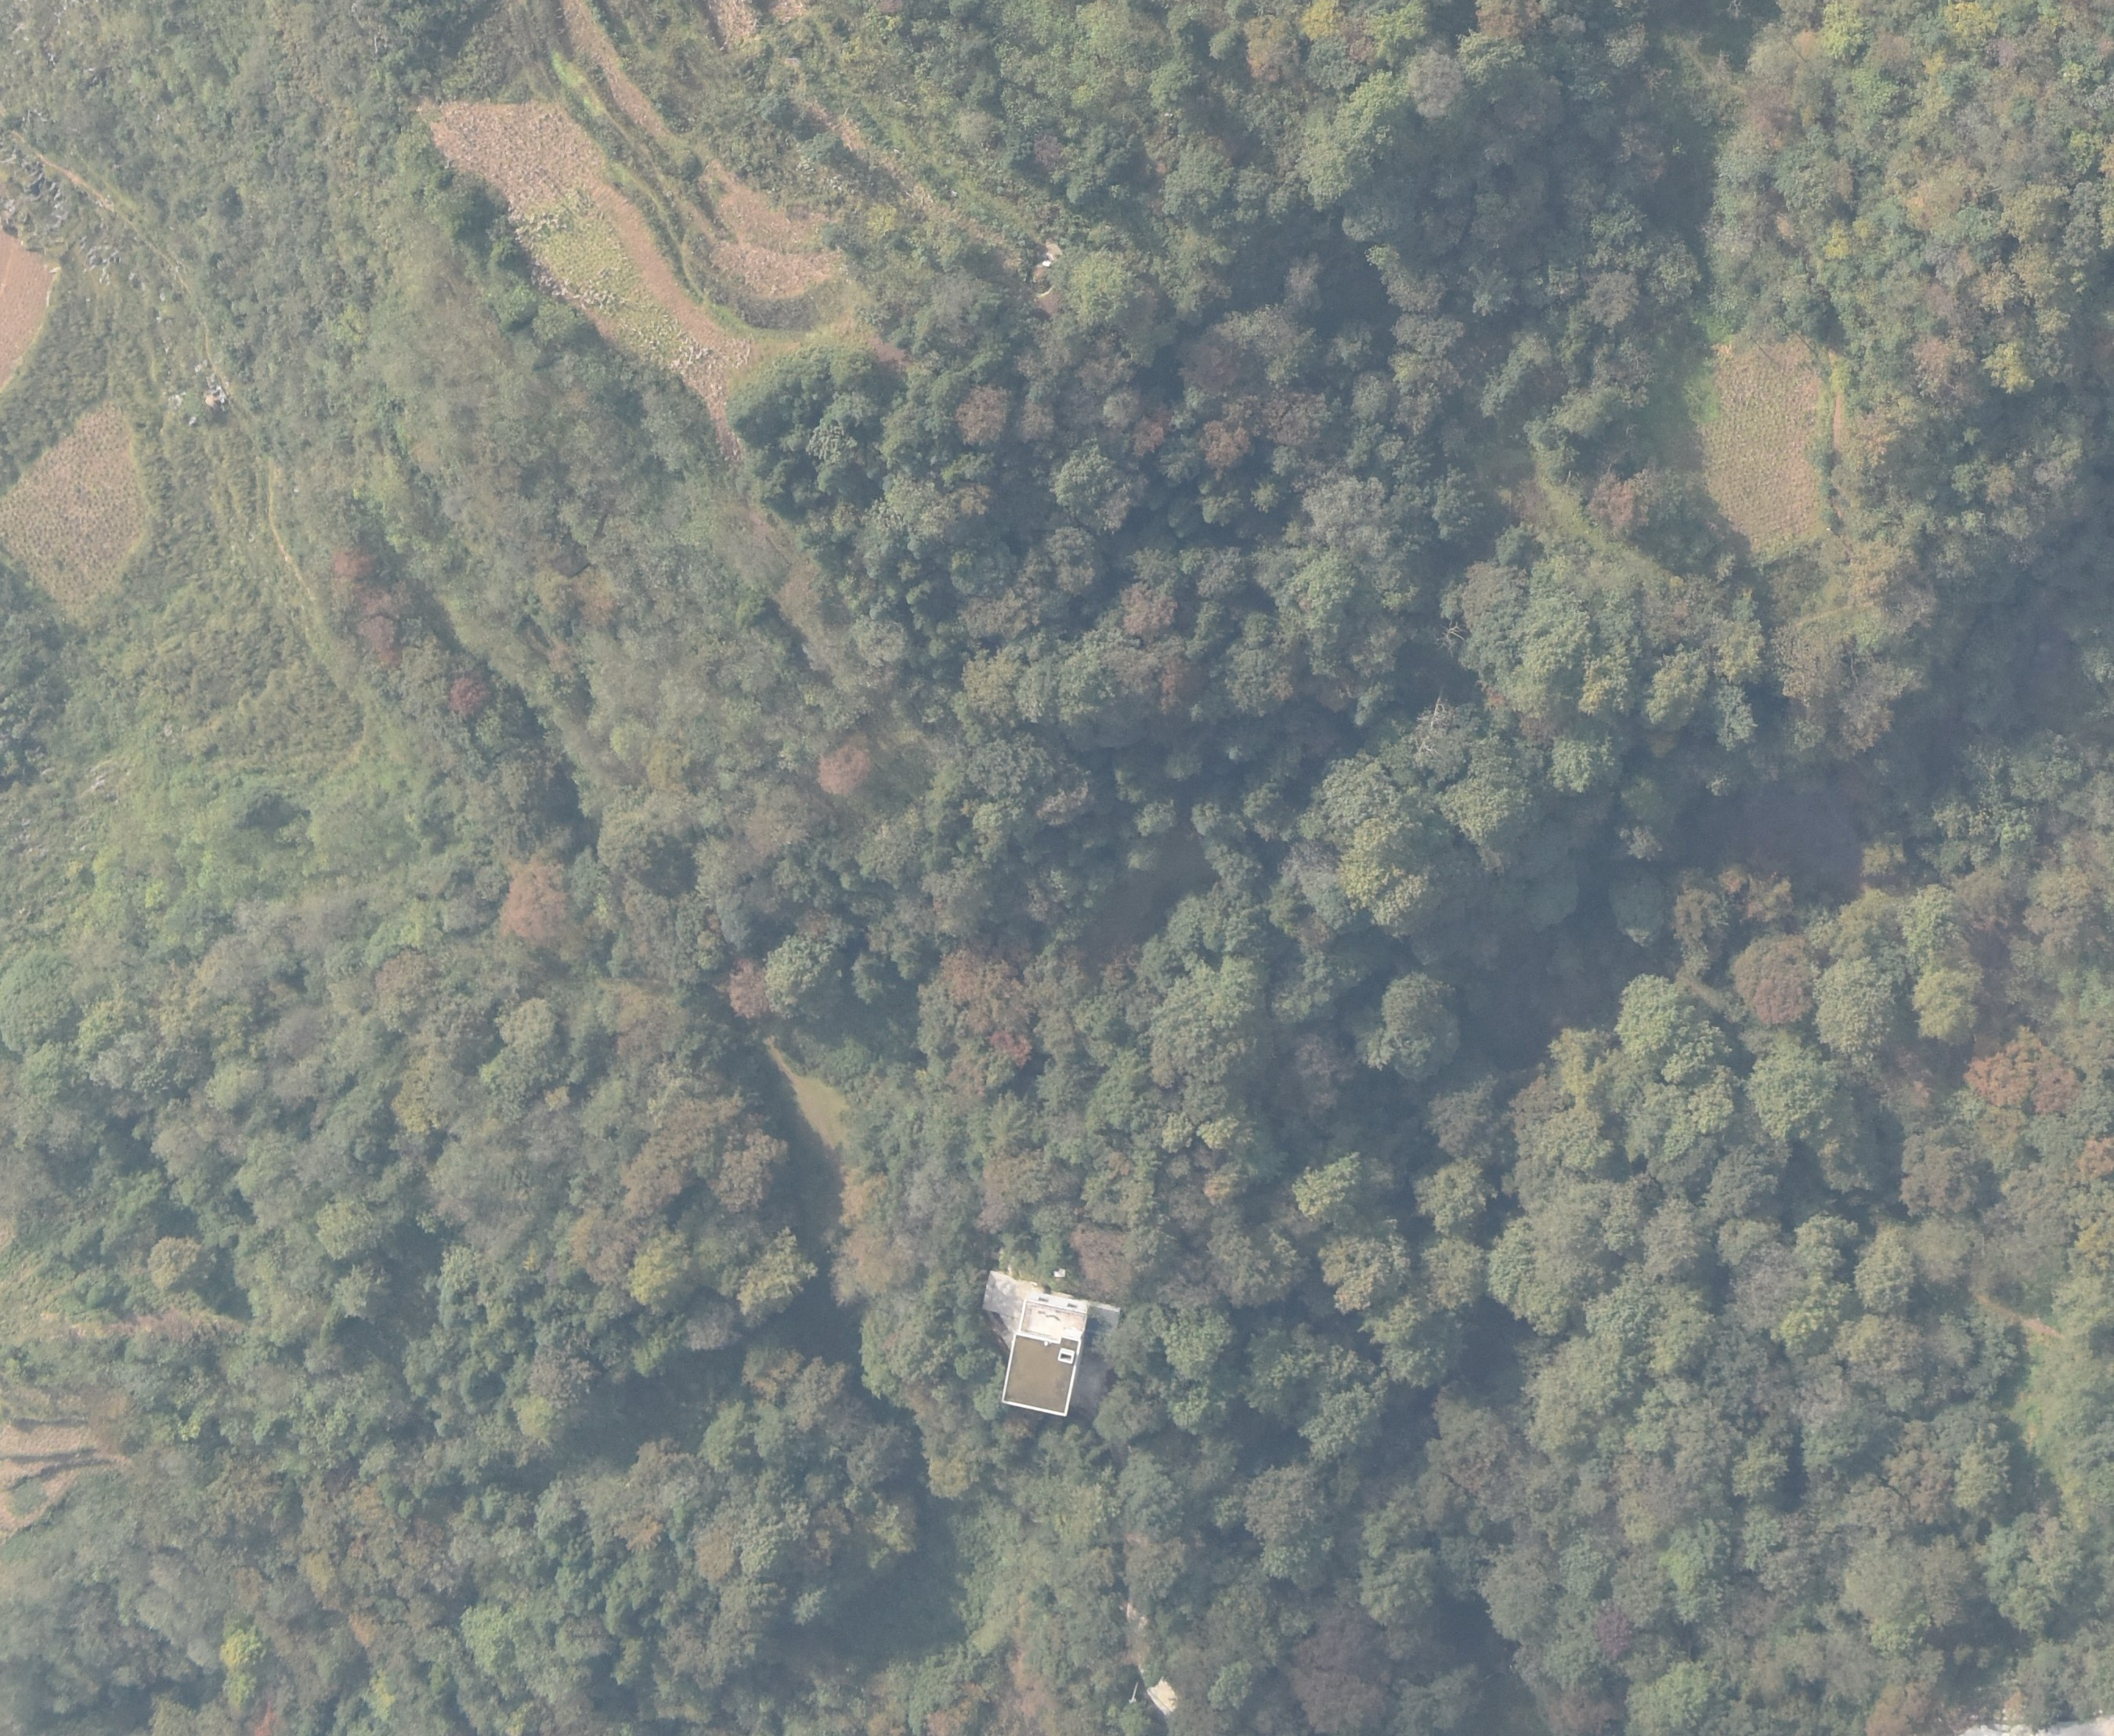building: (1001, 1294, 1089, 1415)
